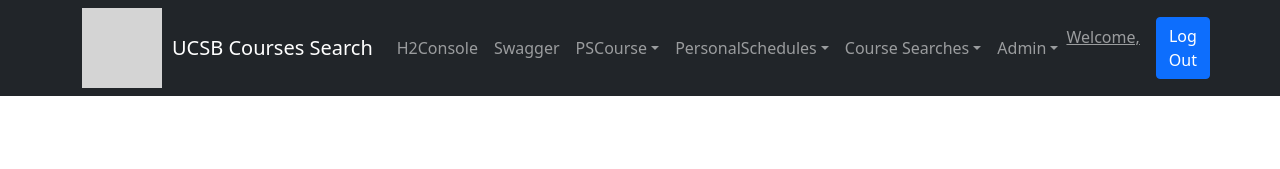
AppNavbar tests › renders the PersonalSchedules menu correctly
The width and height of the screenshot is (1280, 169).
Click the button "PersonalSchedules" at (746, 48), box [675,37,817,59]
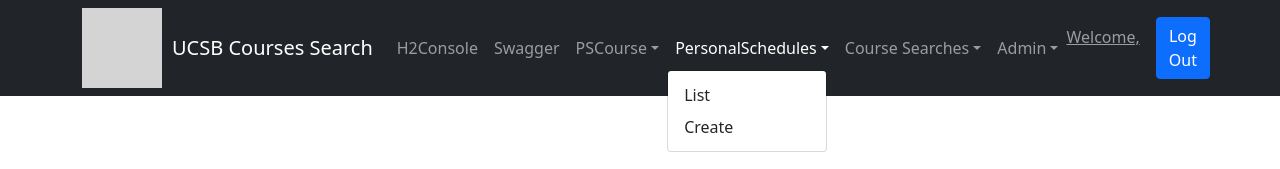
Now the link with test id "appnavbar-personalschedules-list" is shown, box [684,84,710,106]
Now the link with test id "appnavbar-personalschedules-create" is shown, box [684,116,733,138]
